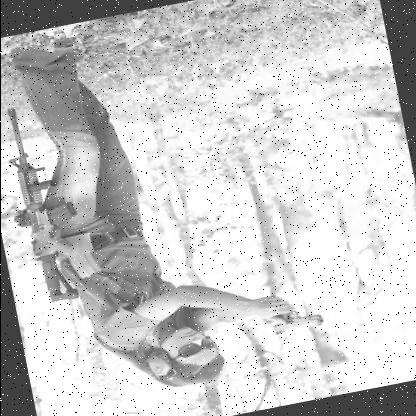rifle: (0, 94, 96, 317), (267, 294, 328, 344)
